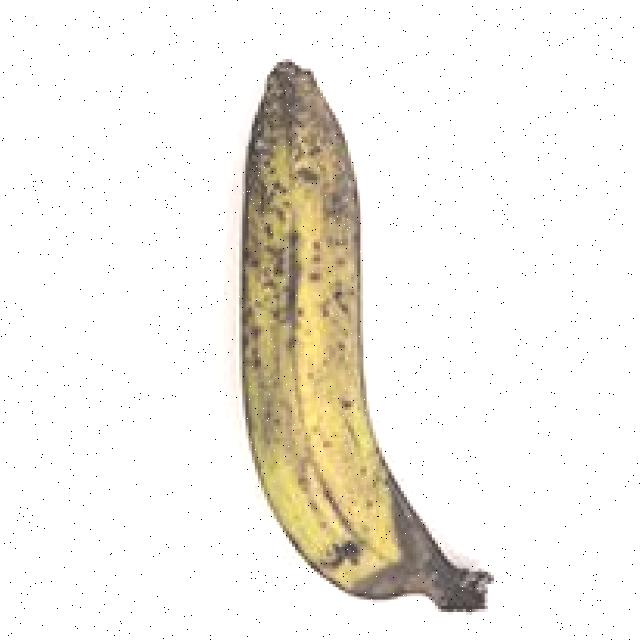Overripe: (186, 36, 509, 636)
